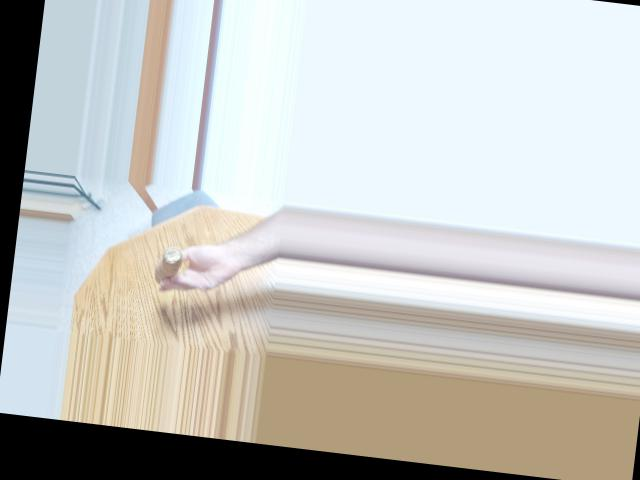sweet_potato: (152, 239, 191, 288)
